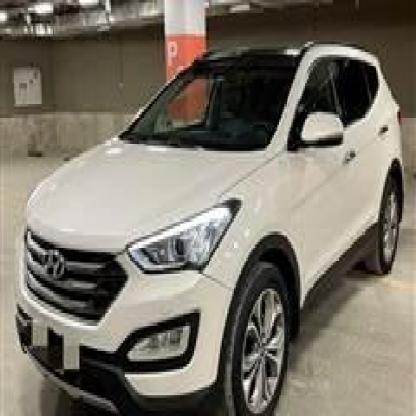Car: (7, 23, 407, 411)
